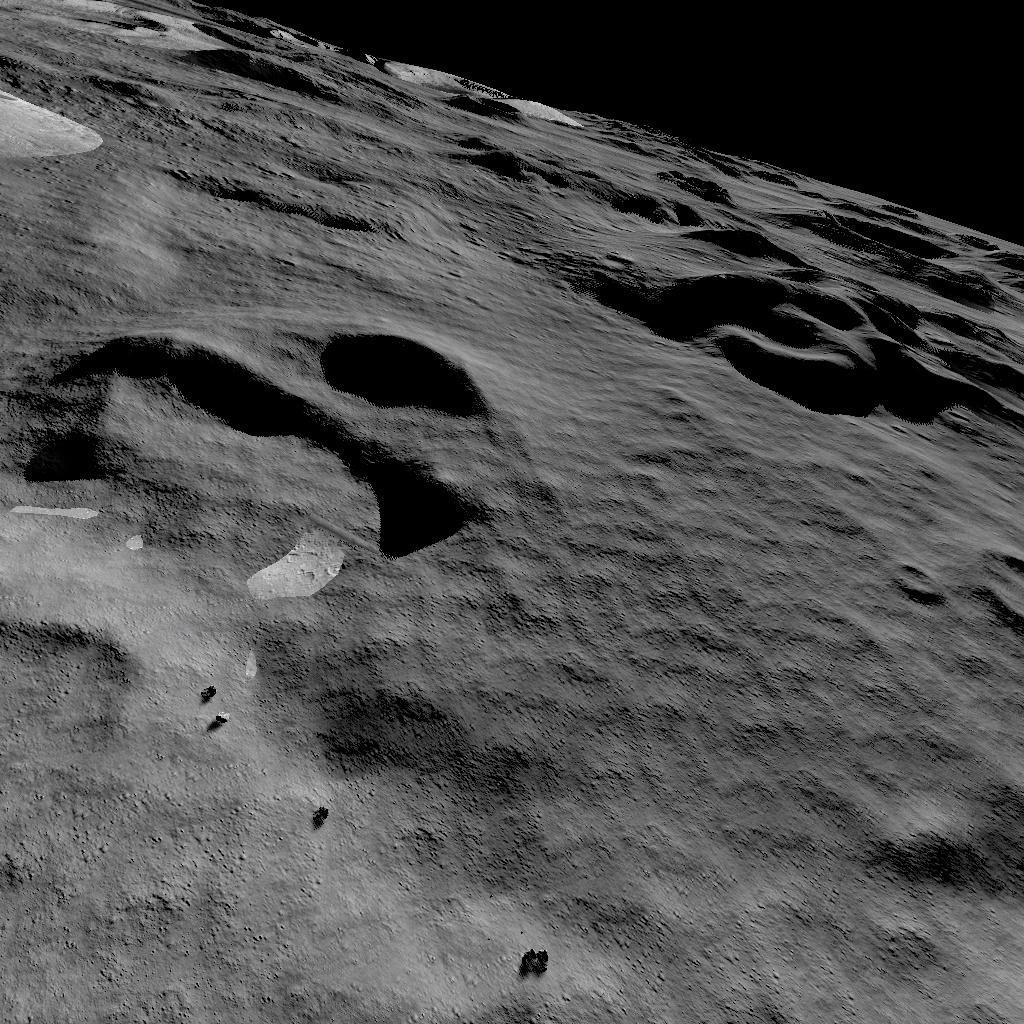Boulders: (0, 72, 135, 194)
Crater: (519, 120, 1024, 441), (3, 306, 487, 582), (0, 610, 152, 862), (877, 538, 1024, 624)
Plan surface: (573, 460, 856, 1022), (0, 882, 506, 1024)
